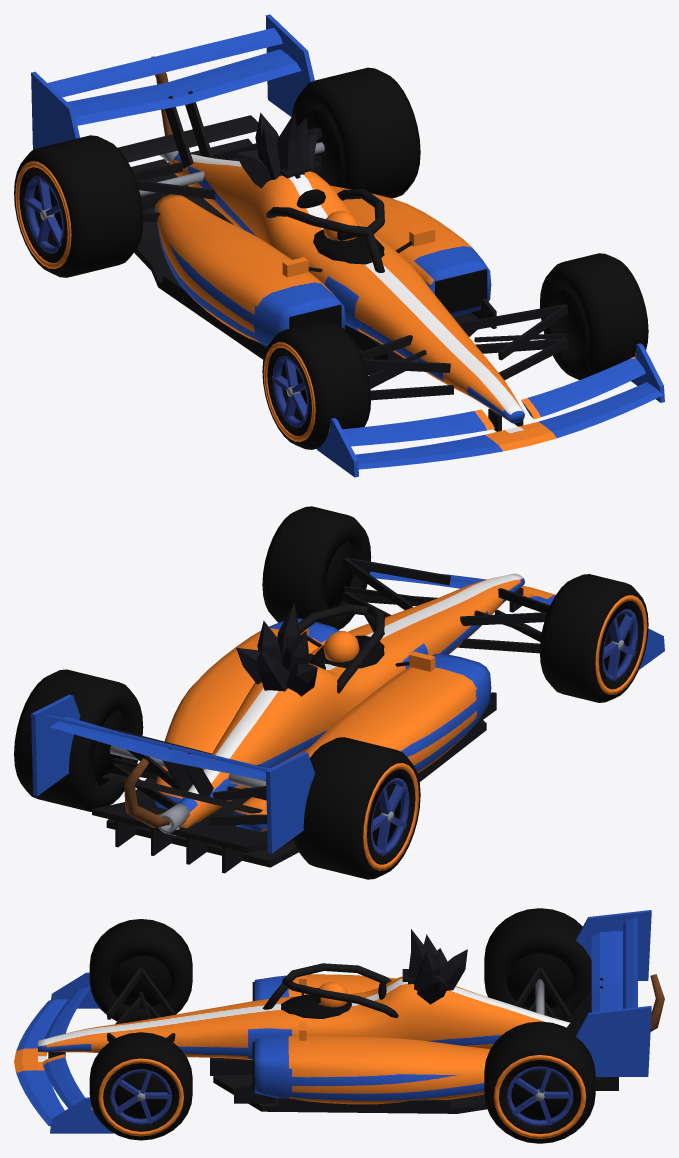
The model's file is warrior_a.fbx.
3 views of the same model, one above another, from view 1: azimuth 30°, elevation 25°; view 2: azimuth 150°, elevation 25°; view 3: azimuth 270°, elevation 25° (orthographic). The views are drawn at different scales.
Visible parts, largest first — view 1: Body, Trim, Wheel_RL, Wheel_RR, Wheel_FL, Wheel_FR, Acc; view 2: Body, Trim, Wheel_RL, Wheel_FL, Wheel_RR, Wheel_FR, Acc; view 3: Body, Trim, Wheel_RR, Wheel_FR, Wheel_RL, Wheel_FL, Acc.
Boxes of the visible parts, x1,y1,x2,y2 form: Body: [31, 14, 664, 477]; Trim: [118, 91, 568, 431]; Wheel_RL: [14, 135, 143, 277]; Wheel_RR: [292, 67, 420, 198]; Wheel_FL: [262, 321, 371, 449]; Wheel_FR: [540, 253, 648, 379]; Acc: [151, 56, 317, 188]; Body: [31, 571, 664, 853]; Trim: [92, 557, 549, 873]; Wheel_RL: [293, 737, 420, 879]; Wheel_FL: [540, 574, 648, 702]; Wheel_RR: [14, 669, 143, 811]; Wheel_FR: [262, 506, 371, 629]; Acc: [124, 602, 317, 827]; Body: [14, 910, 651, 1133]; Trim: [48, 963, 618, 1113]; Wheel_RR: [484, 1021, 595, 1143]; Wheel_FR: [89, 1032, 192, 1140]; Wheel_RL: [484, 908, 591, 1020]; Wheel_FL: [89, 919, 192, 1022]; Acc: [408, 929, 664, 1031].
Size of the model in its own units: 9.81 by 4.74 by 18.93.
Materials: 4 (1 with a texture image).
